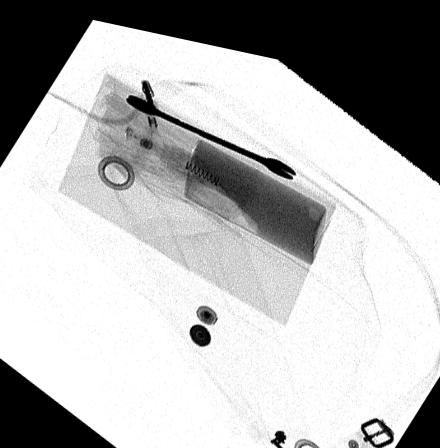Wrench: (121, 87, 299, 170)
